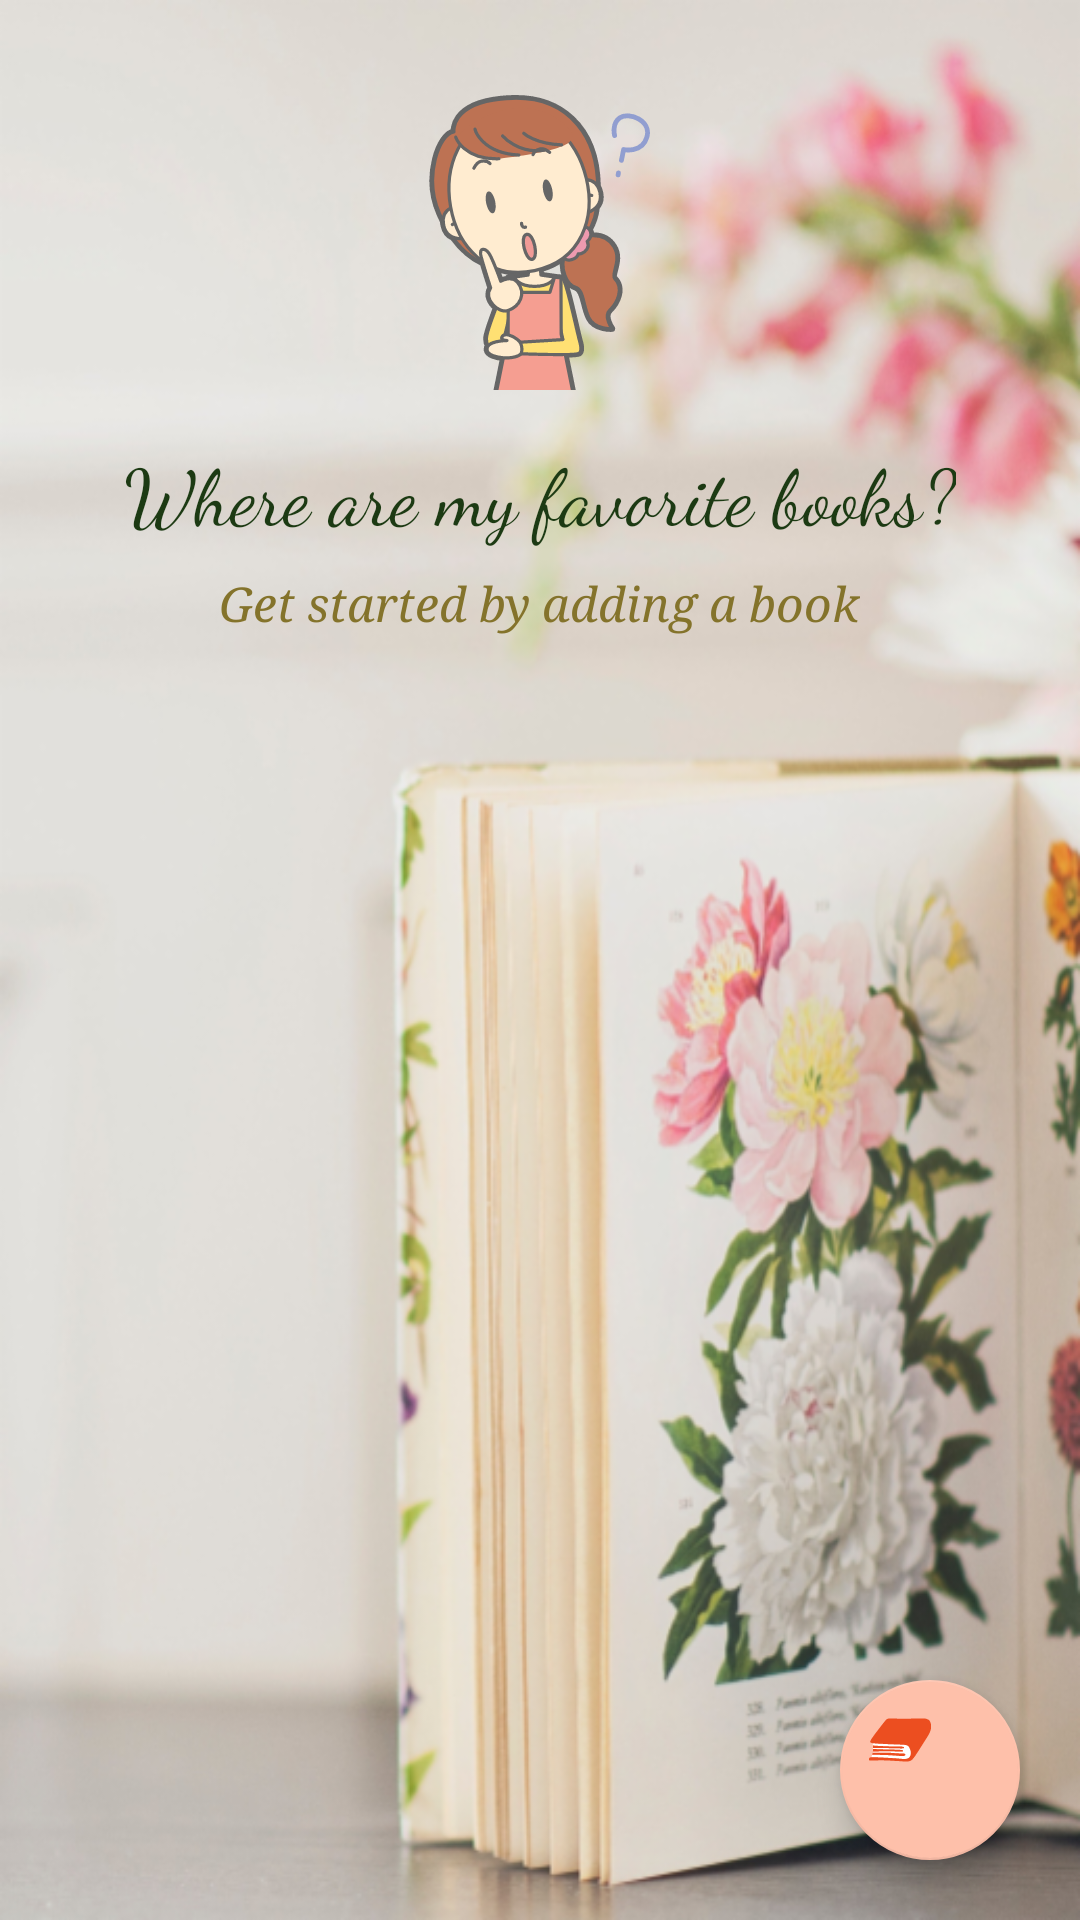

Icon click points for this 1080px x 1920px phone screenshot, format point (x, y):
girl: point (539, 242)
redbook: point (930, 1770)
